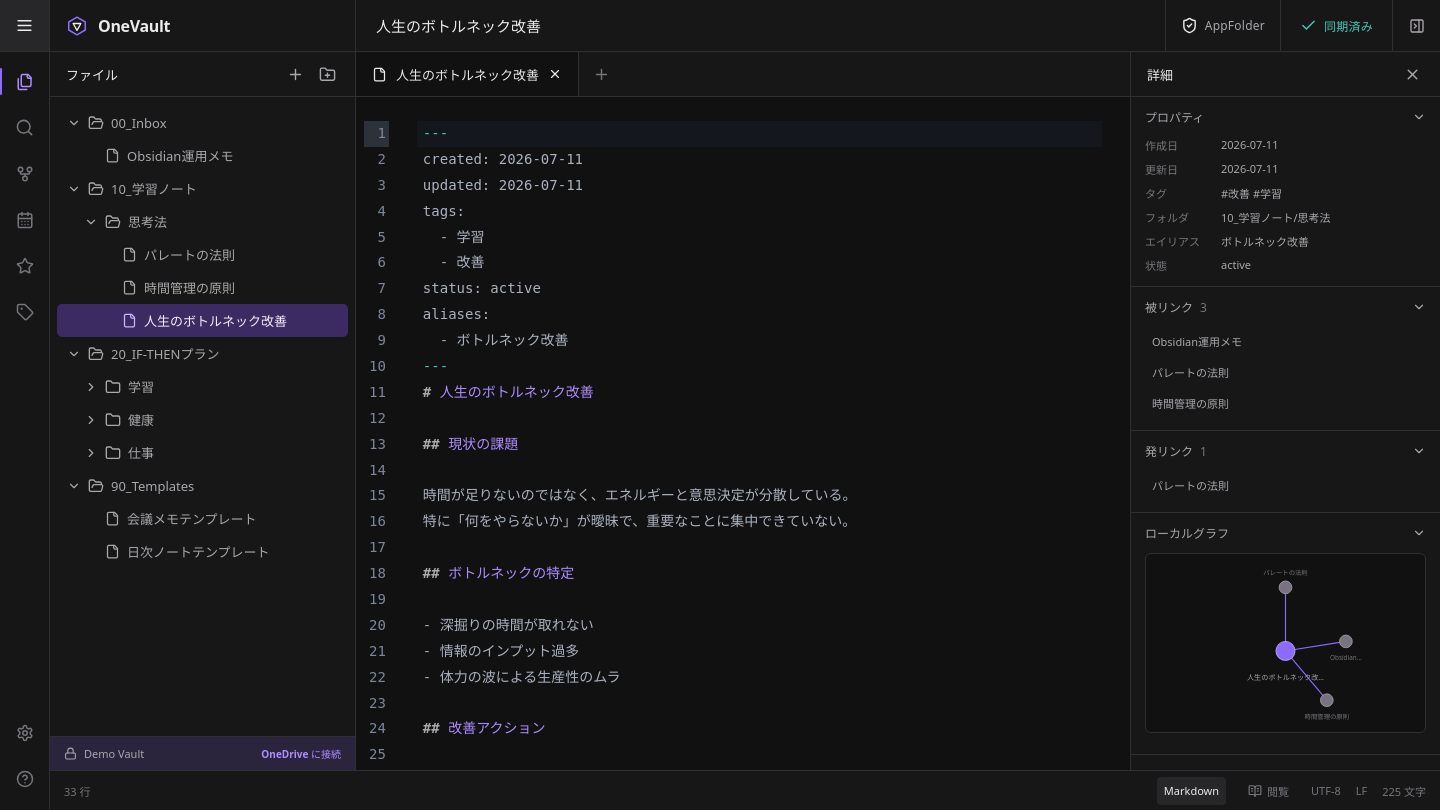
Test: OneVault shell › creates a note in the folder selected in the dialog
Click the button named "新規ノート" in the row of "ファイル" at (295, 74), box [279,58,311,90]
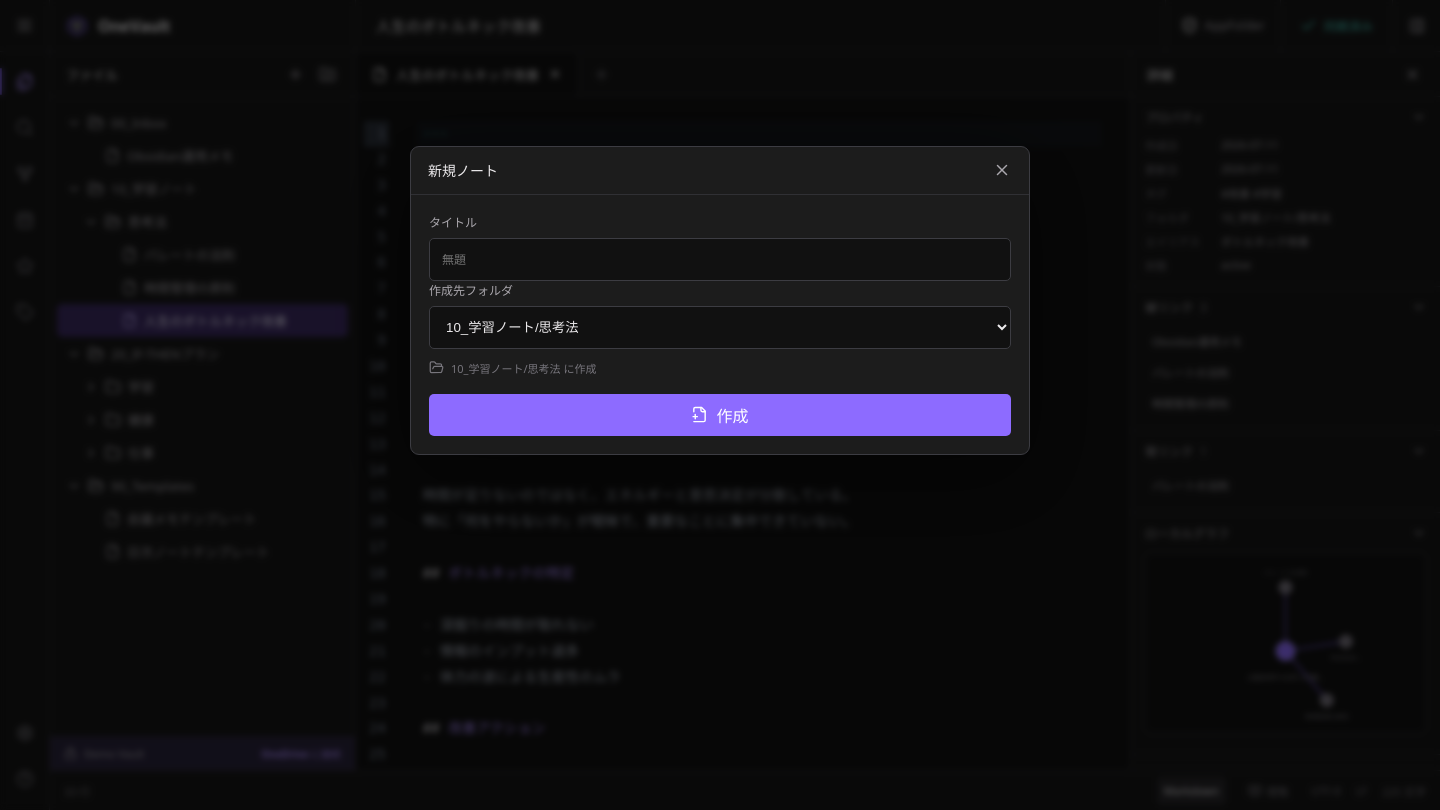
Check: the dropdown labelled "作成先フォルダ" shows "10_学習ノート/思考法"
Select "00_Inbox" in the dropdown labelled "作成先フォルダ" at (720, 327), box [429,306,1011,349]
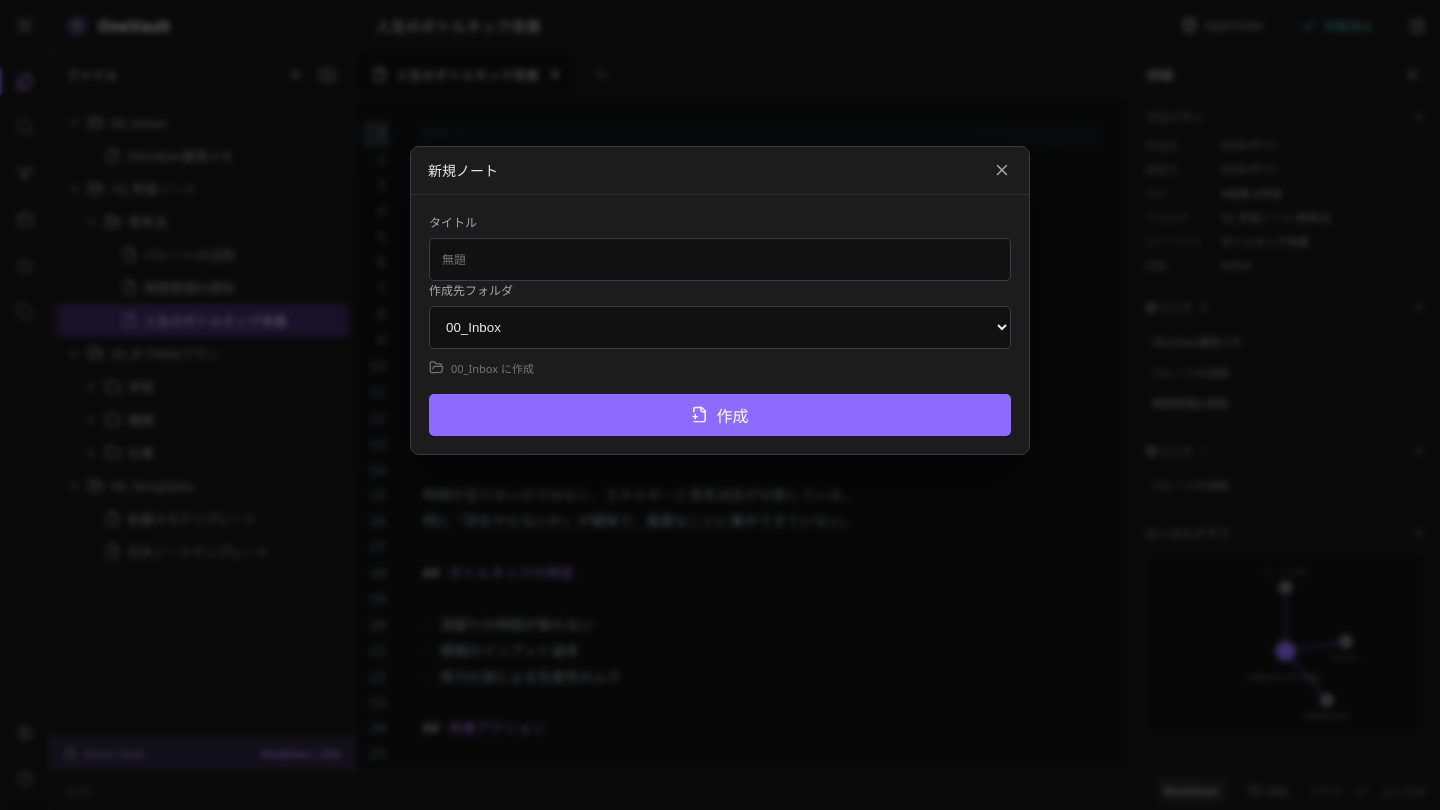
Type "選択先テスト" into the field labelled "タイトル" at (720, 259), box [429,238,1011,281]
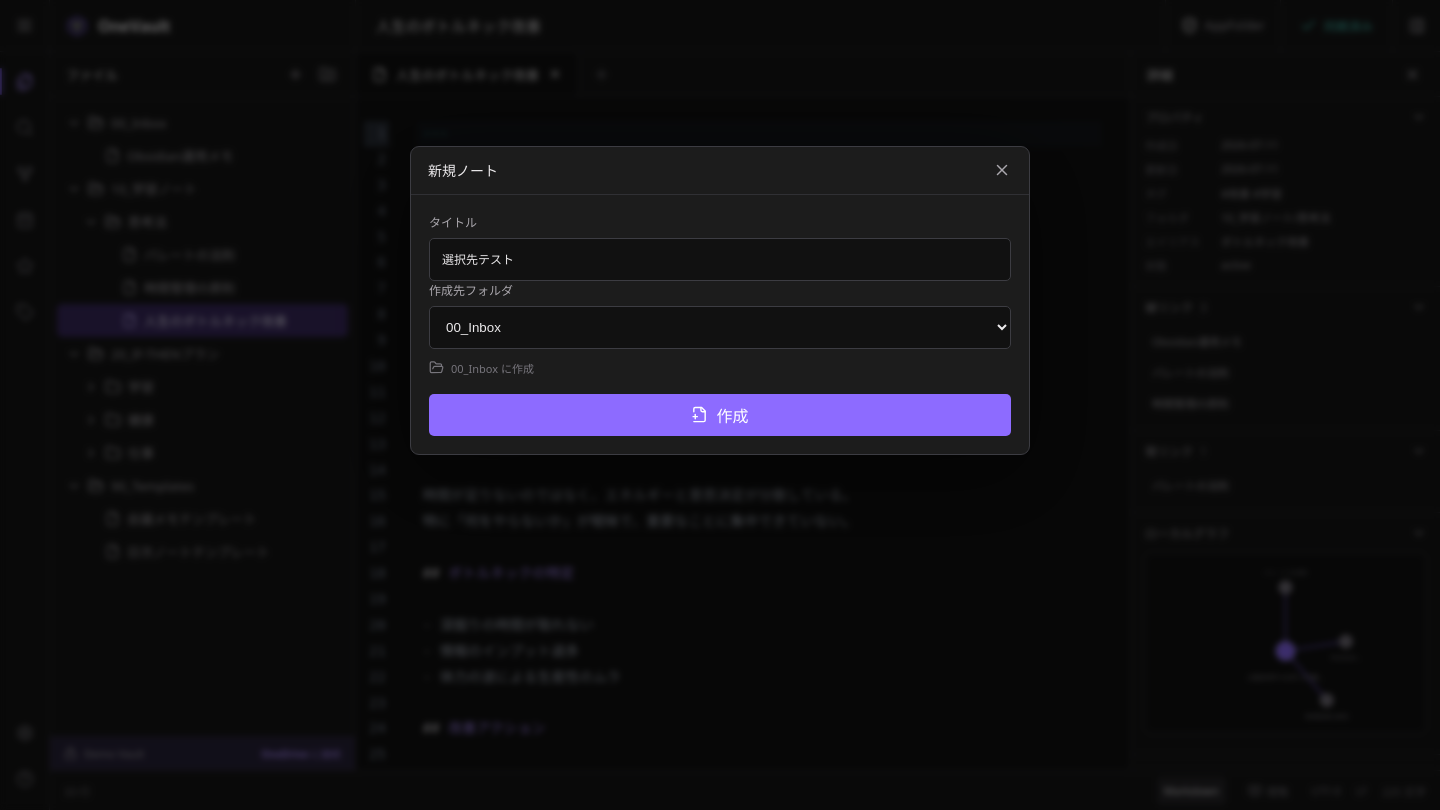
Click the button "作成" at (720, 415), box [429,394,1011,436]
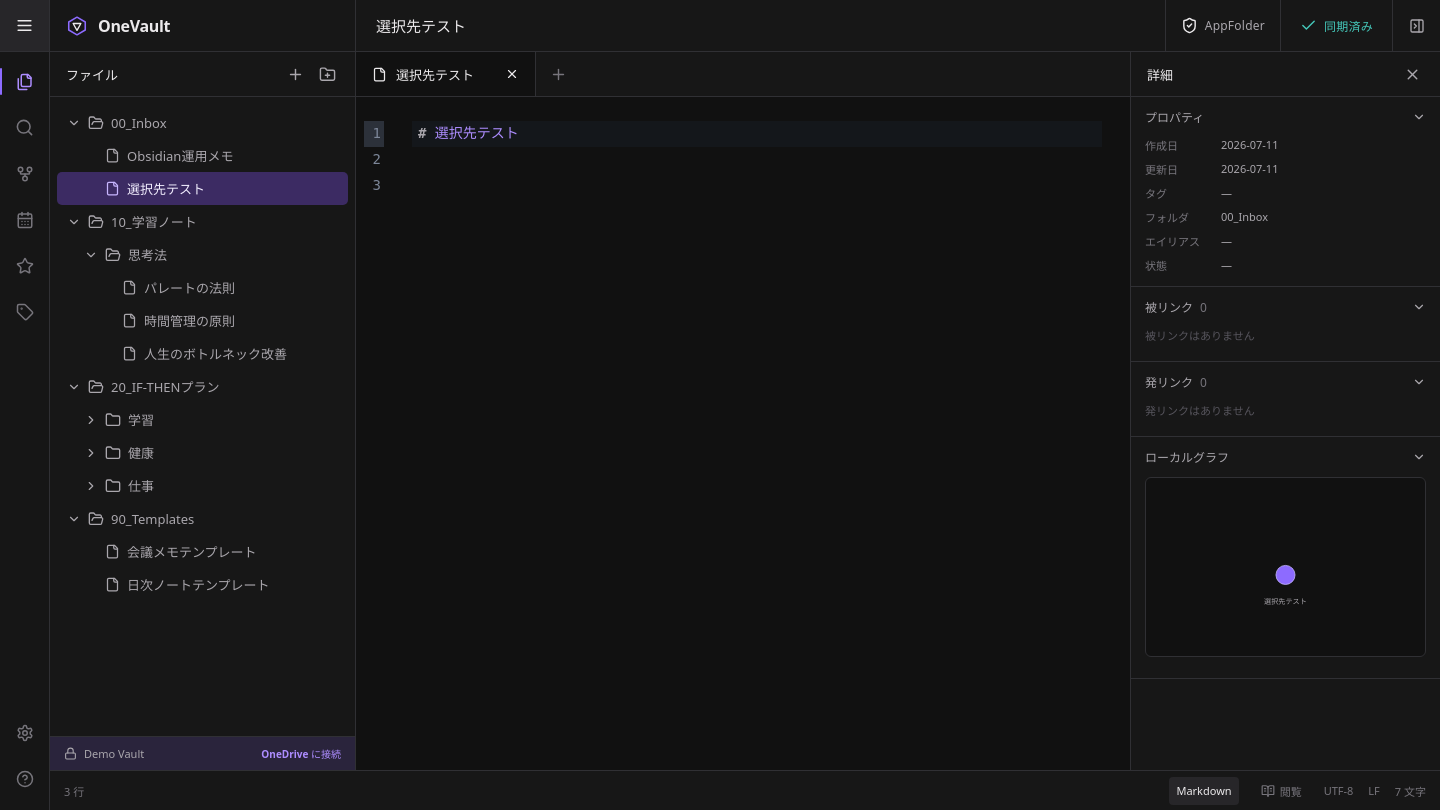
Check: the button titled "00_Inbox/選択先テスト.md" is shown, box [57,172,348,205]
